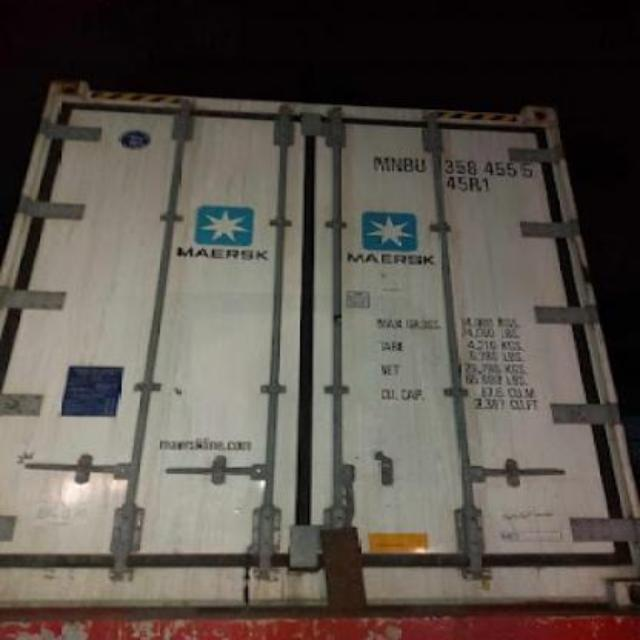3: (440, 154, 456, 176)
4: (482, 152, 494, 182)
5: (504, 148, 520, 184), (522, 154, 536, 182), (452, 152, 468, 175), (492, 152, 504, 182)
8: (464, 151, 480, 175)
B: (401, 146, 414, 178)
M: (368, 151, 388, 175)
N: (388, 151, 404, 177)
U: (412, 148, 428, 178)
